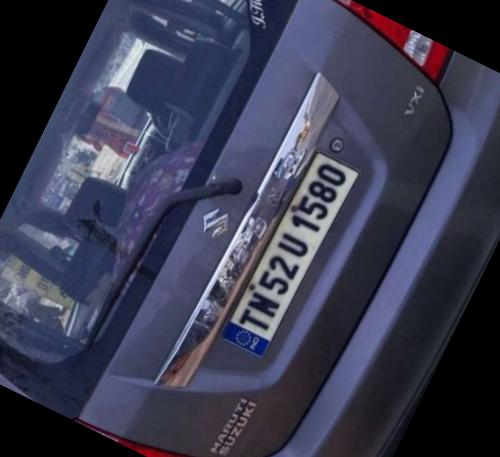plate: (209, 128, 380, 360)
